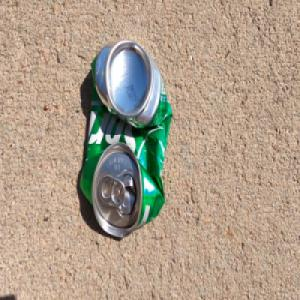SodaCan: (79, 37, 173, 239)
